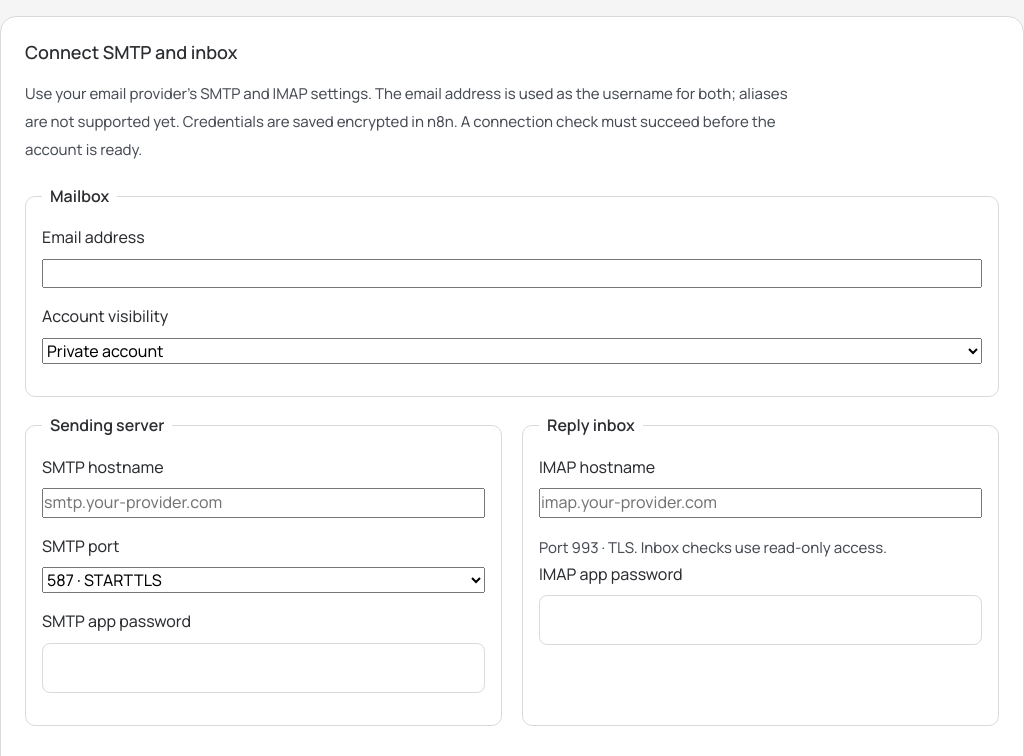
Scenario: confirmed credential save with incomplete workflow setup requests review instead of new credentials
Type "fixture@example.org" into the field labelled "Email address" at x=512, y=274, box [42,259,982,288]
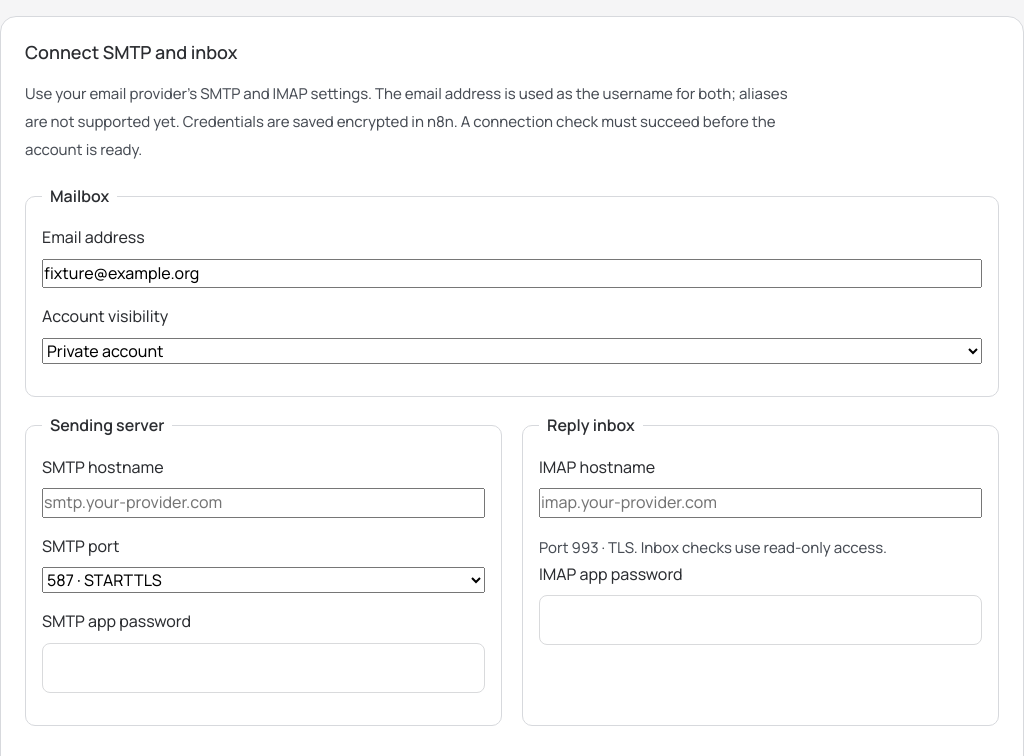
Type "smtp.example.org" into the field labelled "SMTP hostname" at x=264, y=503, box [42,488,485,518]
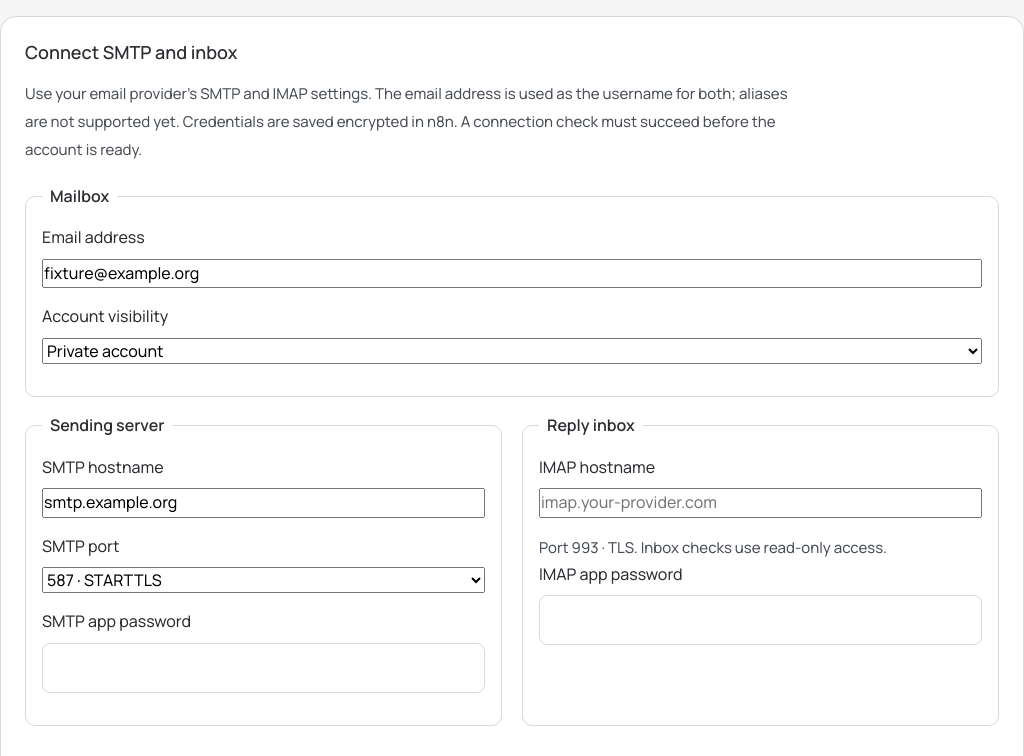
Type "SMTP_SECRET" into the password field labelled "SMTP app password" at x=264, y=668, box [42,643,485,693]
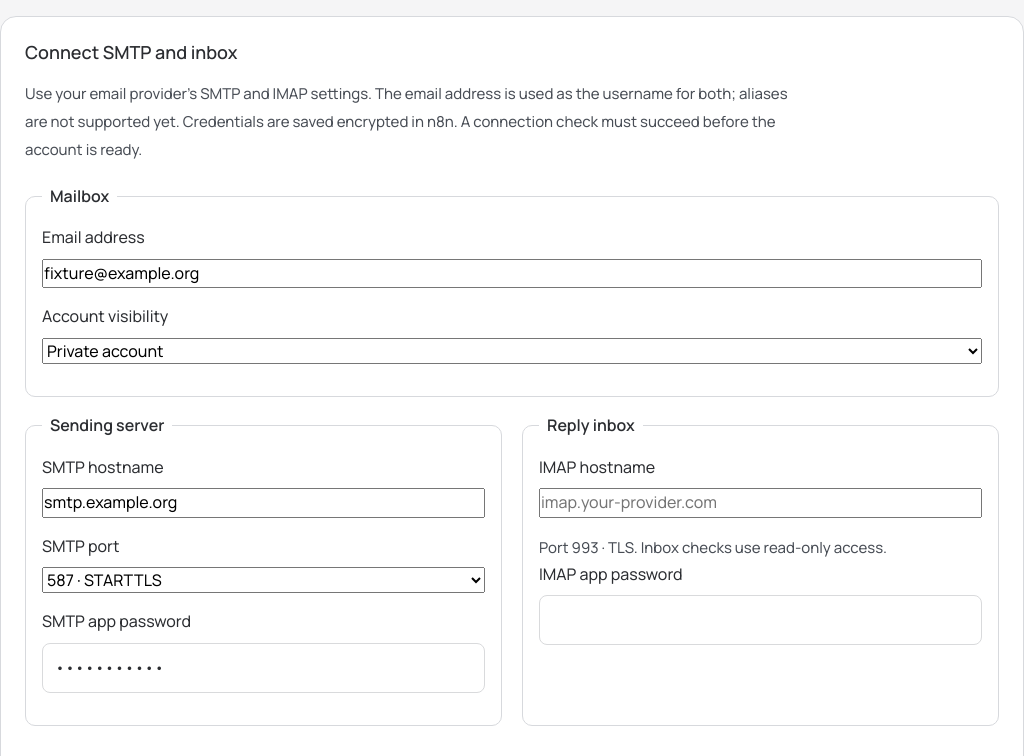
Type "imap.example.org" into the field labelled "IMAP hostname" at x=760, y=503, box [539,488,982,518]
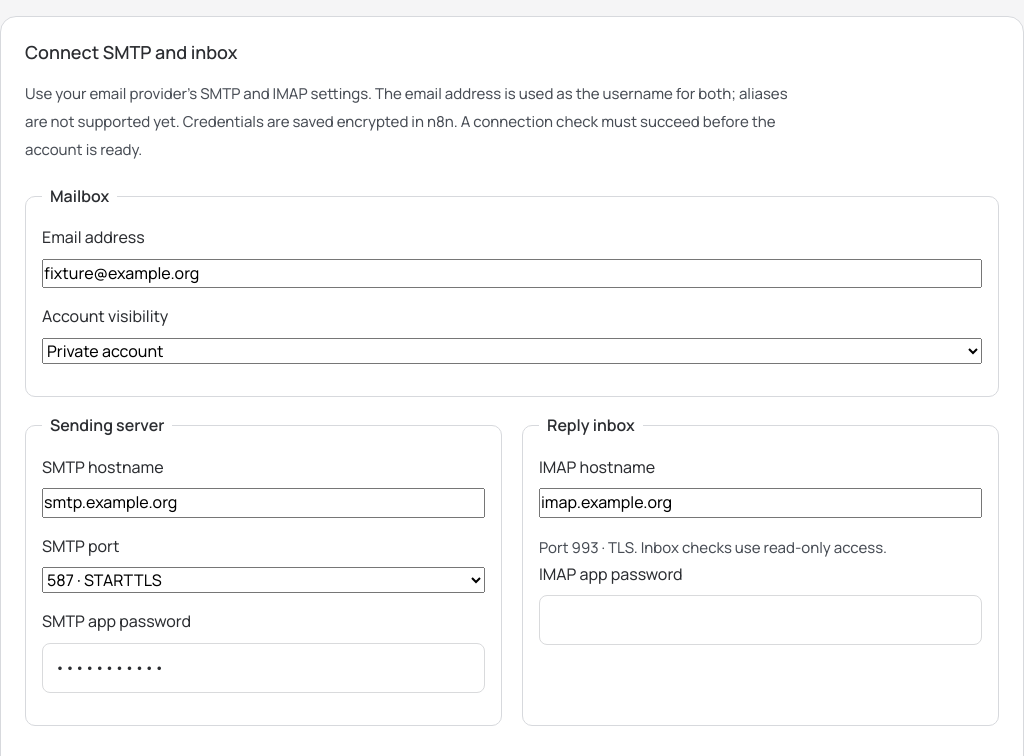
Type "IMAP_SECRET" into the password field labelled "IMAP app password" at x=760, y=620, box [539,595,982,645]
(page scrolled)
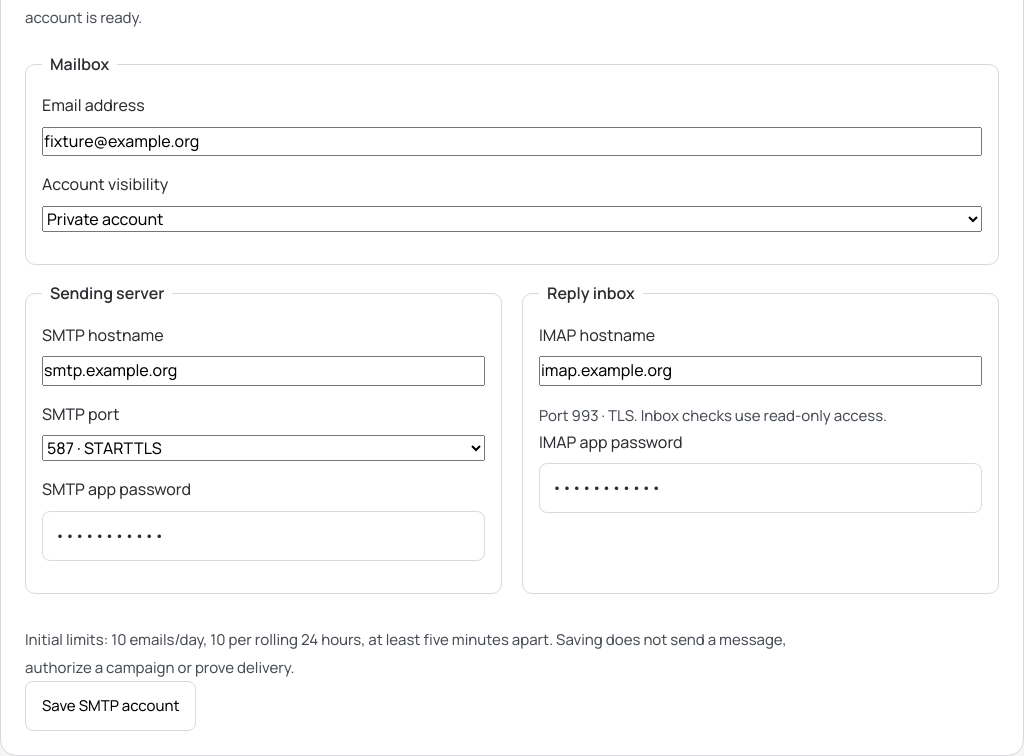
Submit the form
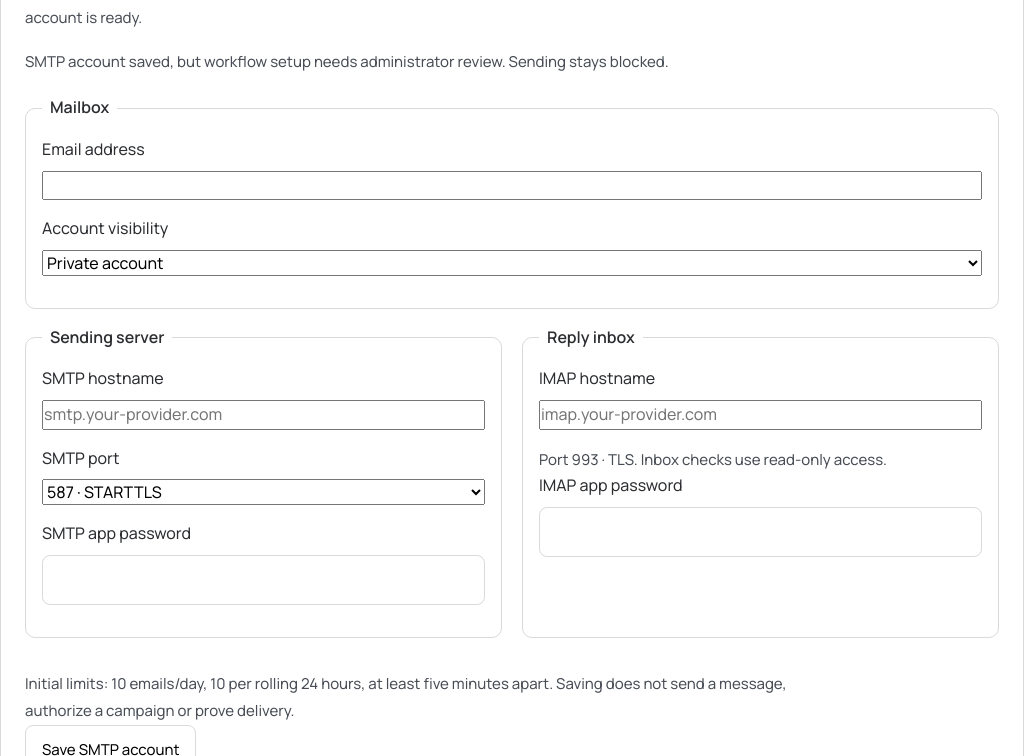
Now the text "workflow setup needs administrator review" is shown, box [25,51,669,72]
